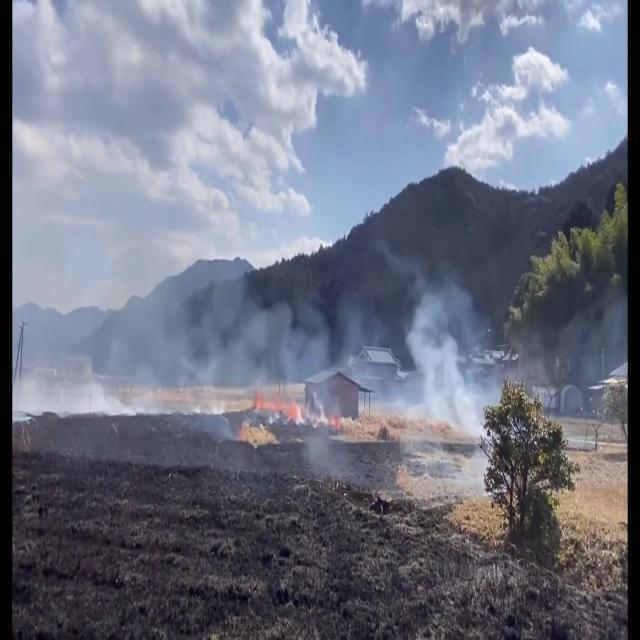Smoke: (325, 240, 525, 472), (78, 246, 334, 417)
